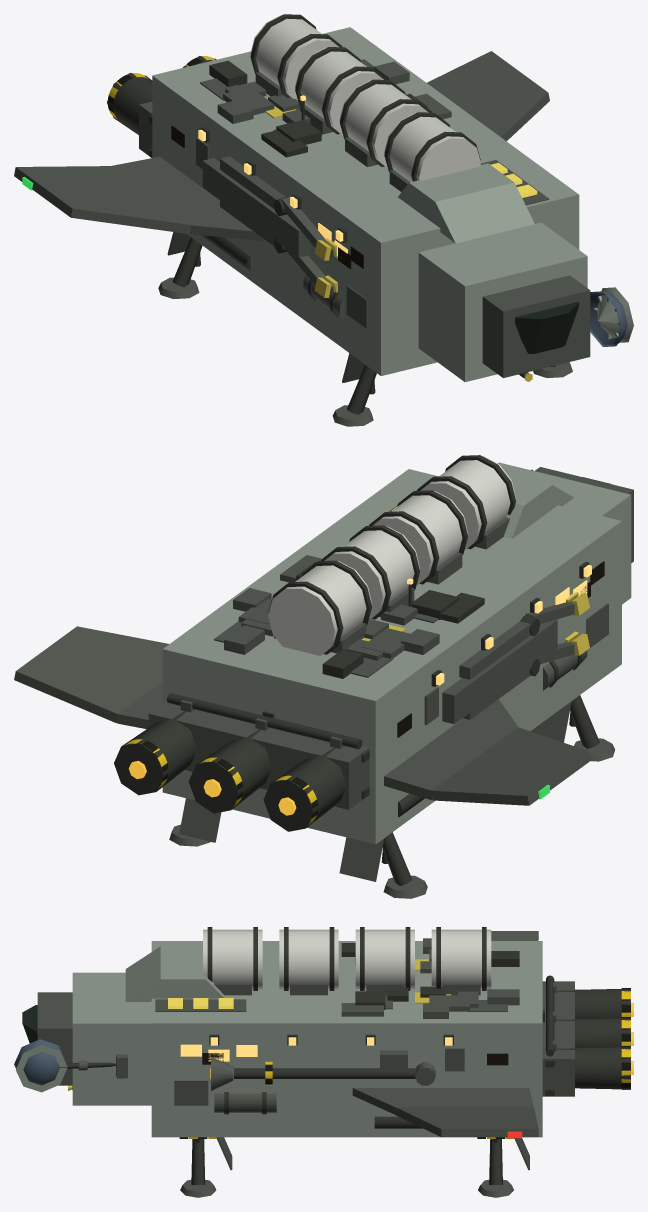
The model's file is tender-l.glb.
3 views of the same model, one above another, from view 1: azimuth 30°, elevation 25°; view 2: azimuth 150°, elevation 25°; view 3: azimuth 270°, elevation 25° (orthographic). The views are drawn at different scales.
Parts seen in each view (by area): view 1: hullMain, hullNose, hullNoseTip, canopyFairing, wingOuterLeft, wingOuterRight, wingInnerLeft, bowserTank0, repairGantry, bowserTank1, bowserTank3, bowserTank2 (+19 smaller); view 2: hullMain, engineHousing (×3), wingOuterRight, wingOuterLeft, engineBayExtension, bowserTank3, wingInnerLeft, repairGantry, bowserTank0, bowserTank1, gearBayDoor (×3), bowserTank2 (+24 smaller); view 3: hullMain, hullNose, engineHousing (×3), canopyFairing, wingOuterRight, wingInnerRight, engineBayExtension, bowserTank3, bowserTank1, bowserTank2, bowserTank0, hullNoseTip (+25 smaller).
Part boxes in pixels (x1=…): hullMain: x1=152, y1=27, x2=579, y2=375; hullNose: x1=418, y1=222, x2=587, y2=381; hullNoseTip: x1=482, y1=275, x2=590, y2=377; canopyFairing: x1=398, y1=163, x2=534, y2=243; wingOuterLeft: x1=14, y1=166, x2=190, y2=234; wingOuterRight: x1=427, y1=51, x2=549, y2=141; wingInnerLeft: x1=111, y1=156, x2=263, y2=241; bowserTank0: x1=384, y1=113, x2=480, y2=181; repairGantry: x1=202, y1=158, x2=309, y2=257; bowserTank1: x1=339, y1=80, x2=428, y2=167; bowserTank3: x1=250, y1=15, x2=338, y2=100; bowserTank2: x1=295, y1=47, x2=383, y2=135; hullMain: x1=162, y1=469, x2=621, y2=844; engineHousing (×3): x1=114, y1=711, x2=346, y2=831; wingOuterRight: x1=14, y1=626, x2=168, y2=723; wingOuterLeft: x1=431, y1=727, x2=590, y2=805; engineBayExtension: x1=148, y1=700, x2=369, y2=809; bowserTank3: x1=268, y1=561, x2=372, y2=655; wingInnerLeft: x1=384, y1=699, x2=518, y2=800; repairGantry: x1=442, y1=619, x2=557, y2=724; bowserTank0: x1=421, y1=456, x2=516, y2=550; bowserTank1: x1=373, y1=491, x2=468, y2=585; gearBayDoor (×3): x1=179, y1=701, x2=571, y2=881; bowserTank2: x1=324, y1=526, x2=420, y2=618; hullMain: x1=151, y1=941, x2=542, y2=1137; hullNose: x1=72, y1=972, x2=151, y2=1105; engineHousing (×3): x1=543, y1=989, x2=630, y2=1089; canopyFairing: x1=125, y1=946, x2=224, y2=1001; wingOuterRight: x1=396, y1=1107, x2=538, y2=1137; wingInnerRight: x1=352, y1=1088, x2=533, y2=1114; engineBayExtension: x1=542, y1=981, x2=574, y2=1096; bowserTank3: x1=431, y1=929, x2=491, y2=989; bowserTank1: x1=279, y1=929, x2=338, y2=989; bowserTank2: x1=355, y1=929, x2=414, y2=989; bowserTank0: x1=203, y1=929, x2=262, y2=989; hullNoseTip: x1=37, y1=992, x2=72, y2=1085.
Size of the model in its own units: 5.1 by 2.59 by 6.66.
